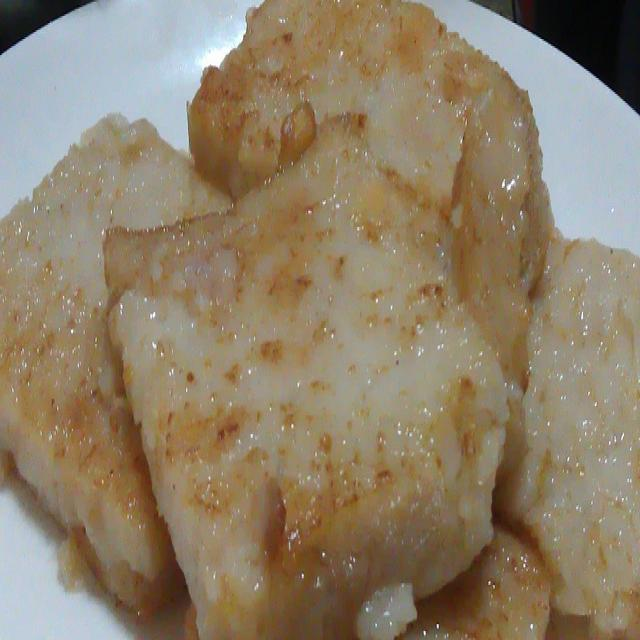蛋糕甜品: (14, 11, 626, 615)
